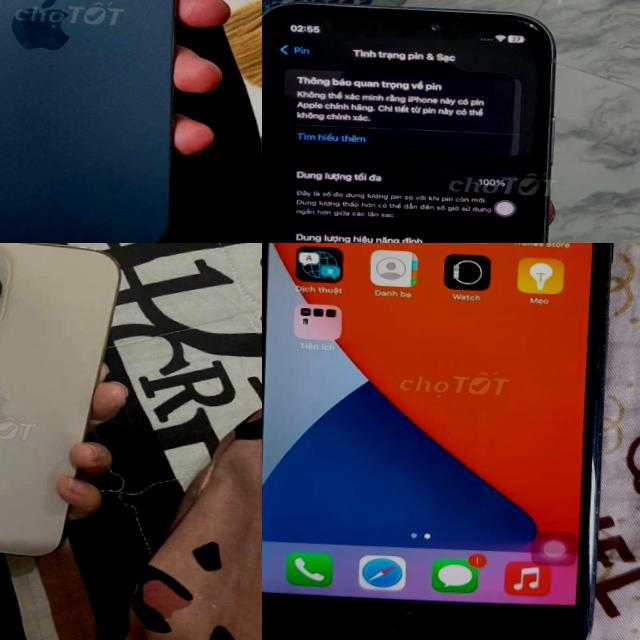gen_12_13: (0, 0, 219, 243), (0, 243, 133, 568)
gen_7_8: (262, 243, 625, 640)
gen_x_xs: (262, 0, 591, 243)
